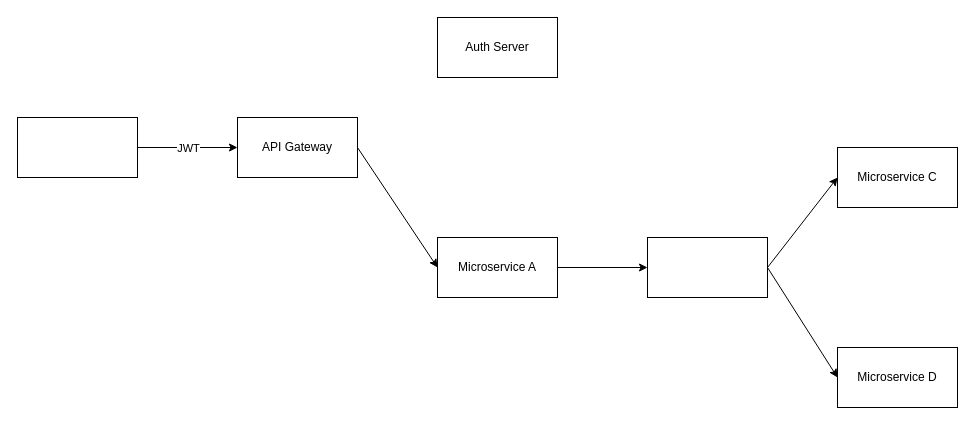
The diagram is 975 pixels wide and 425 high, and some of its shapes have lost their labels. Here are the shapes that lost their labels. From the top down, the centre of each, then its label:
At [77,147]: "Frontend".
At [707,267]: "Microservice B".
